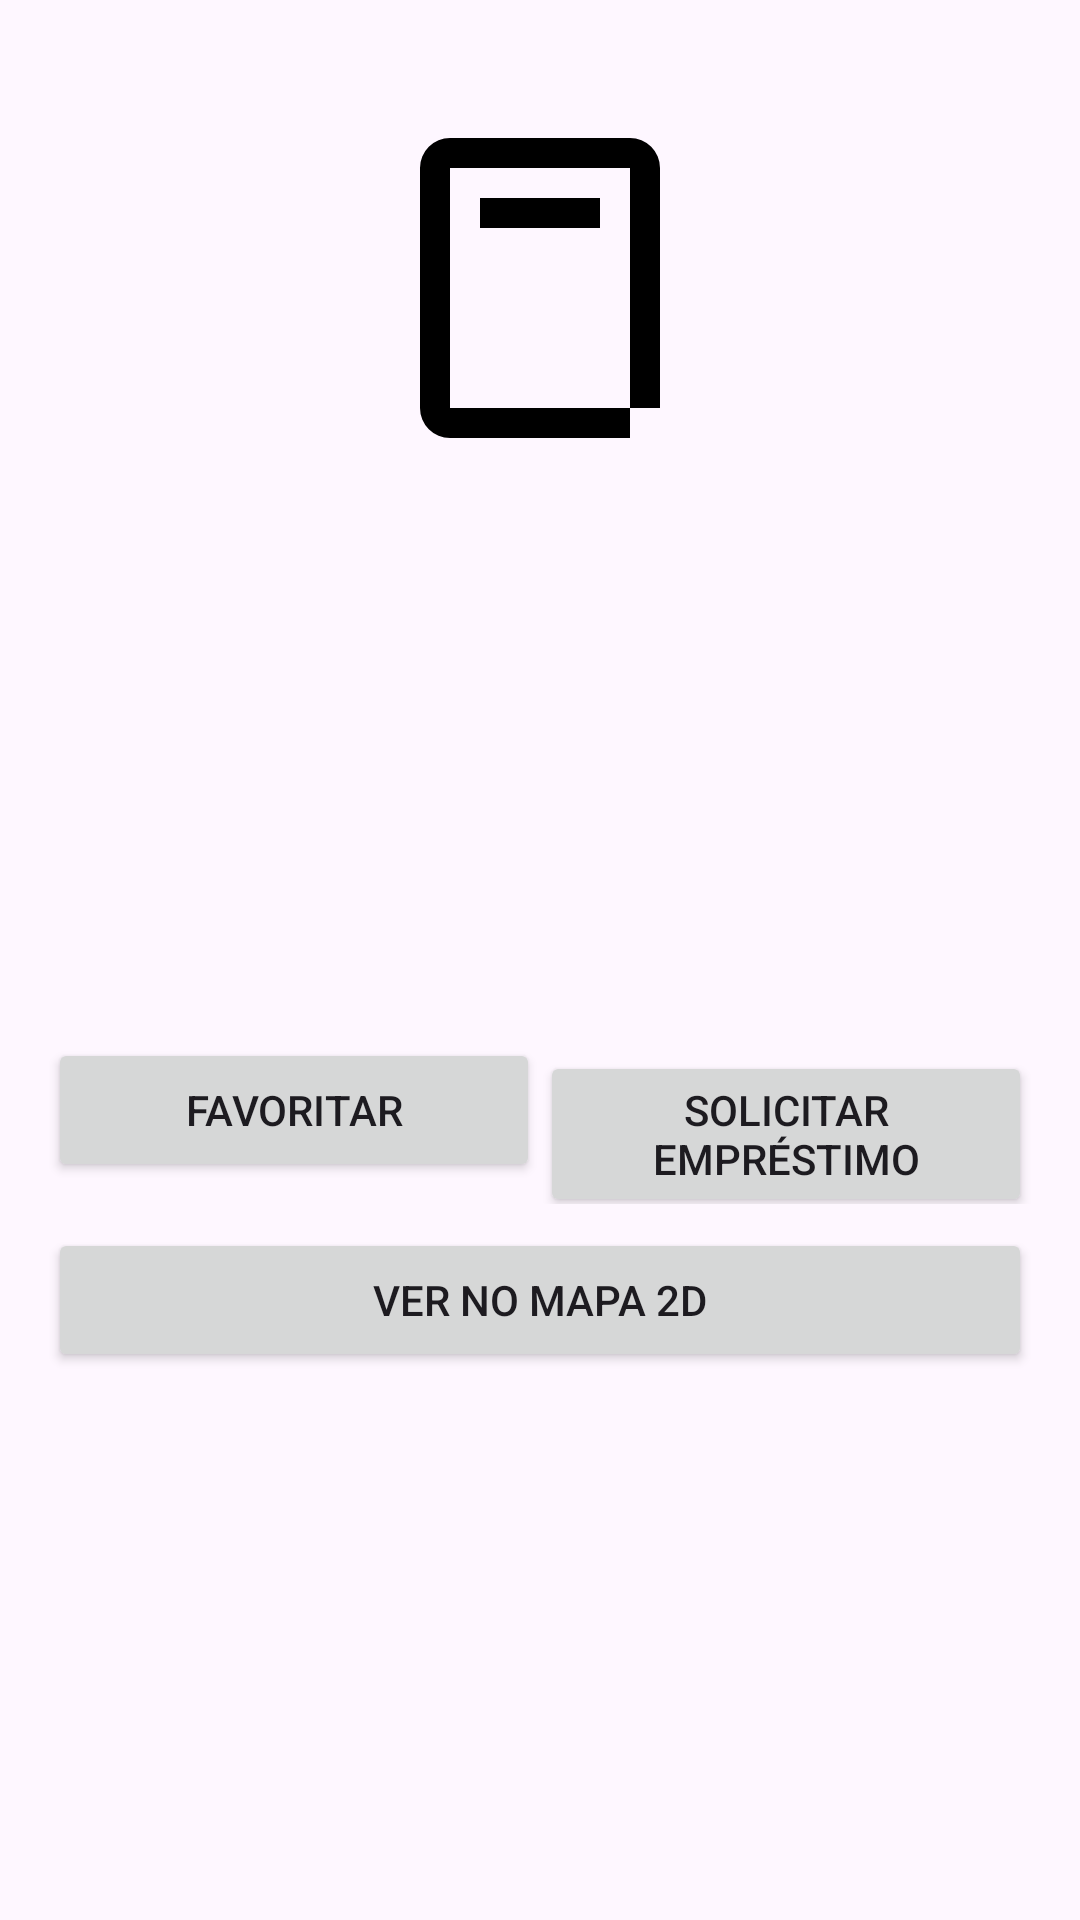

Screen size 1080 x 1920. Icon name, then its box in pixels as (x1, y1, x2, y2):
book: (420, 138, 660, 438)
